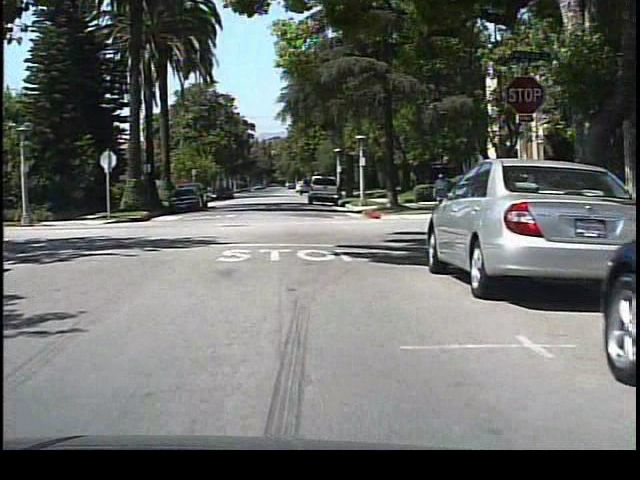person: (428, 166, 452, 213)
